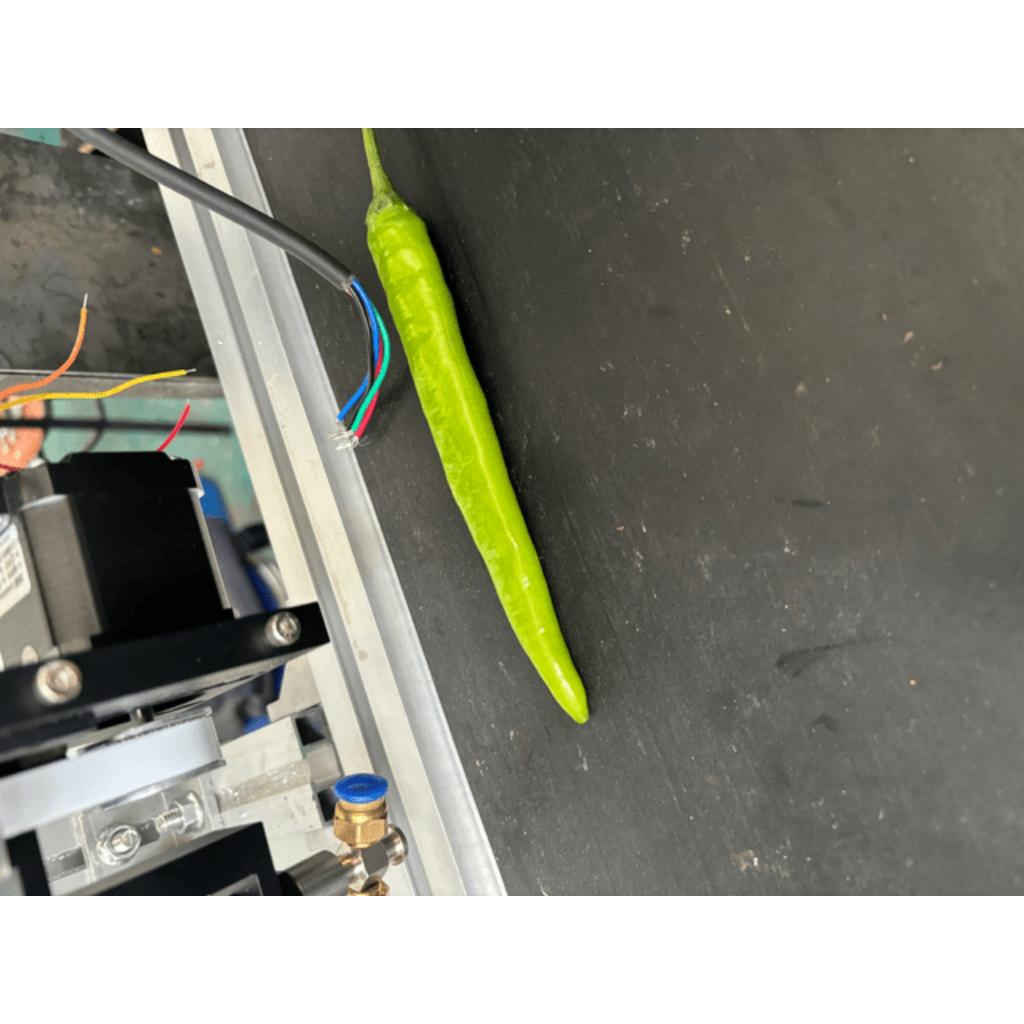chili: (364, 192, 593, 729)
